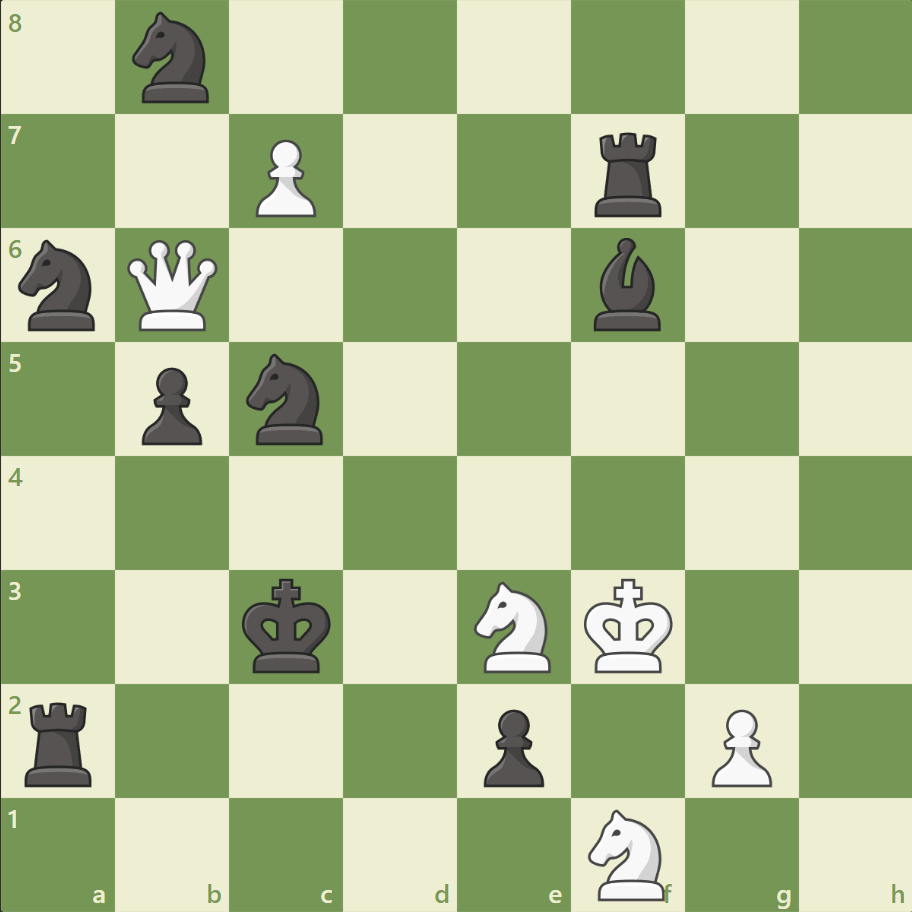K: (579, 571, 679, 679)
N: (465, 575, 562, 677), (579, 802, 676, 904)
P: (247, 132, 322, 223), (701, 700, 776, 791)
Q: (124, 236, 223, 335)
b: (585, 233, 669, 336)
k: (238, 571, 338, 679)
n: (124, 7, 222, 110), (11, 234, 108, 337), (238, 348, 335, 450)
p: (133, 359, 208, 450), (474, 700, 549, 791)
r: (587, 125, 670, 222), (19, 693, 102, 790)
